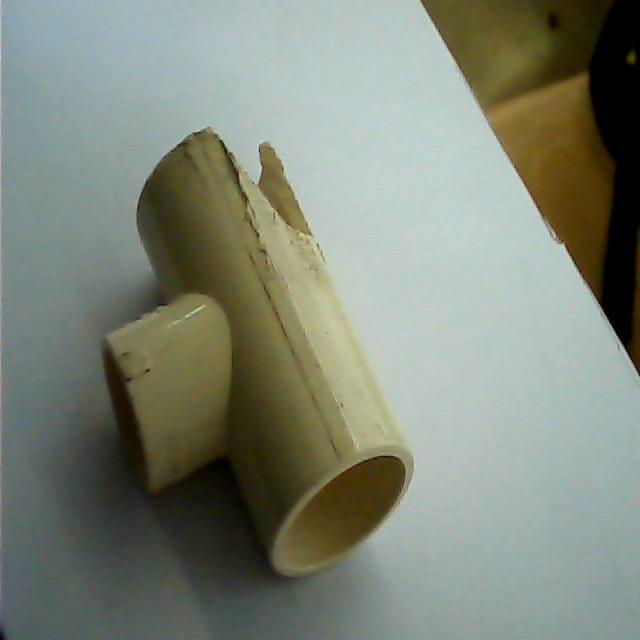Defective: (205, 122, 318, 246)
T Joint: (107, 129, 415, 580)
